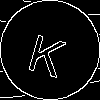K: (25, 25, 70, 78)
